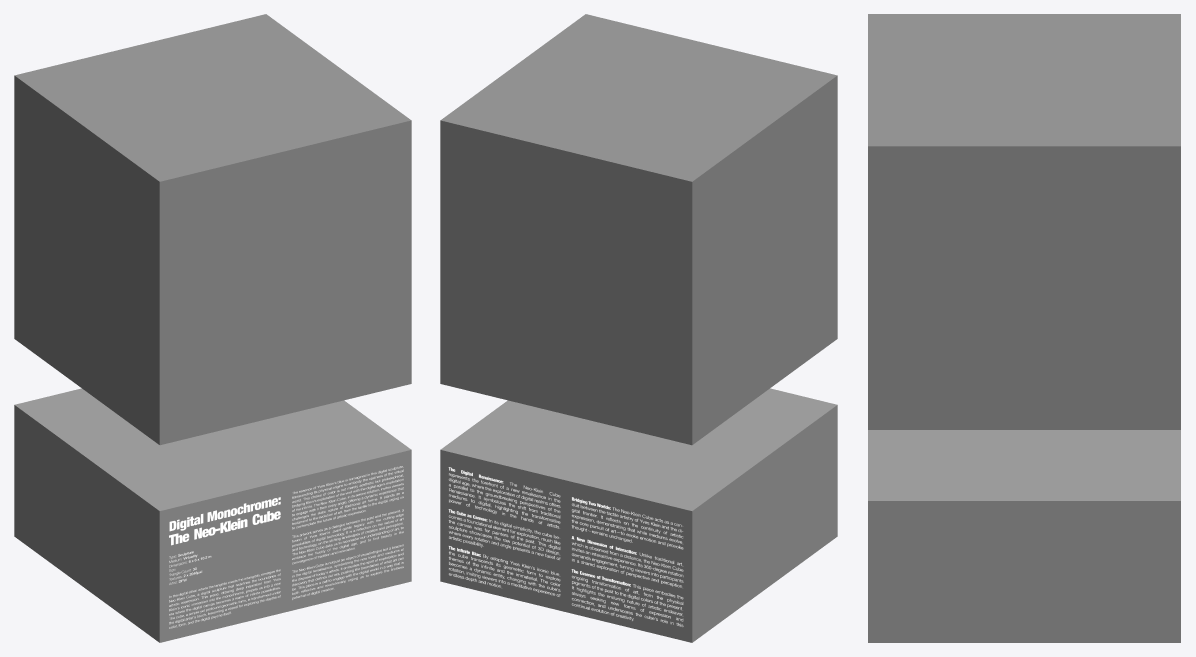
The model's file is NEOKLEIN-gry-v120.glb.
3 renders of one model, left to right at view 1: azimuth 30°, elevation 25°; view 2: azimuth 150°, elevation 25°; view 3: azimuth 270°, elevation 25°, orthographic. The views are drawn at different scales.
Visible parts, largest first — view 1: yves klein blue monochrome-151d9c-; view 2: yves klein blue monochrome-151d9c-; view 3: yves klein blue monochrome-151d9c-.
Boxes of the visible parts, x1,y1,x2,y2 form: yves klein blue monochrome-151d9c-: (14, 14, 411, 642); yves klein blue monochrome-151d9c-: (440, 14, 837, 642); yves klein blue monochrome-151d9c-: (868, 14, 1180, 642).
Size of the model in its own units: 5.82 by 10.18 by 5.86.
3 materials, 3 textured.
